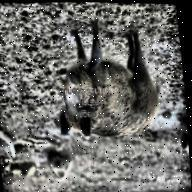boar: (35, 24, 187, 155)
